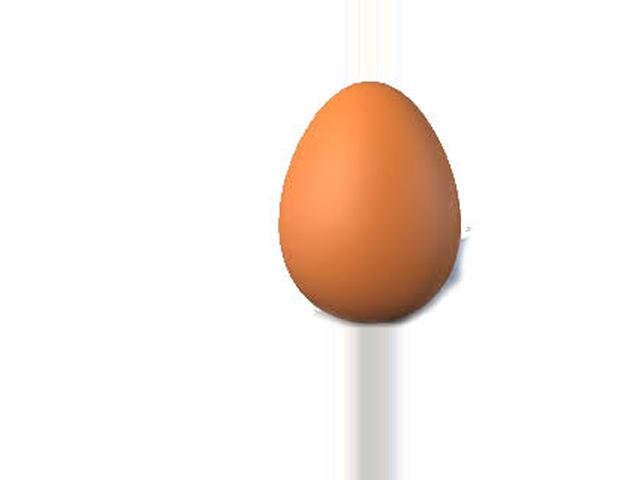egg: (278, 83, 460, 323)
